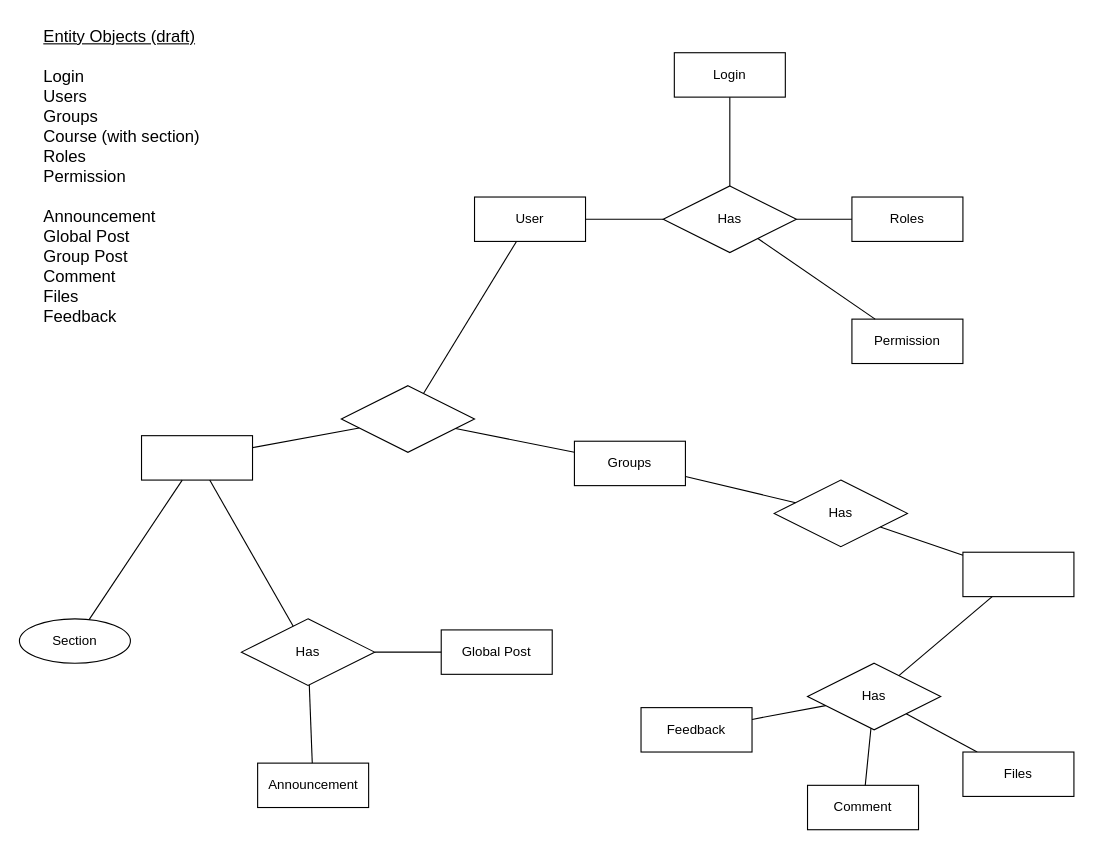
Some shapes in this 1093 by 849 pixel diagram are drawn without their labels. The shapes that lost their labels are listed below. From the top down, each one's box as (x1, y1, x2, y2) in pixels, then its label:
(340, 385, 475, 452): Manage
(140, 435, 253, 480): Course
(962, 551, 1074, 597): Group Post
